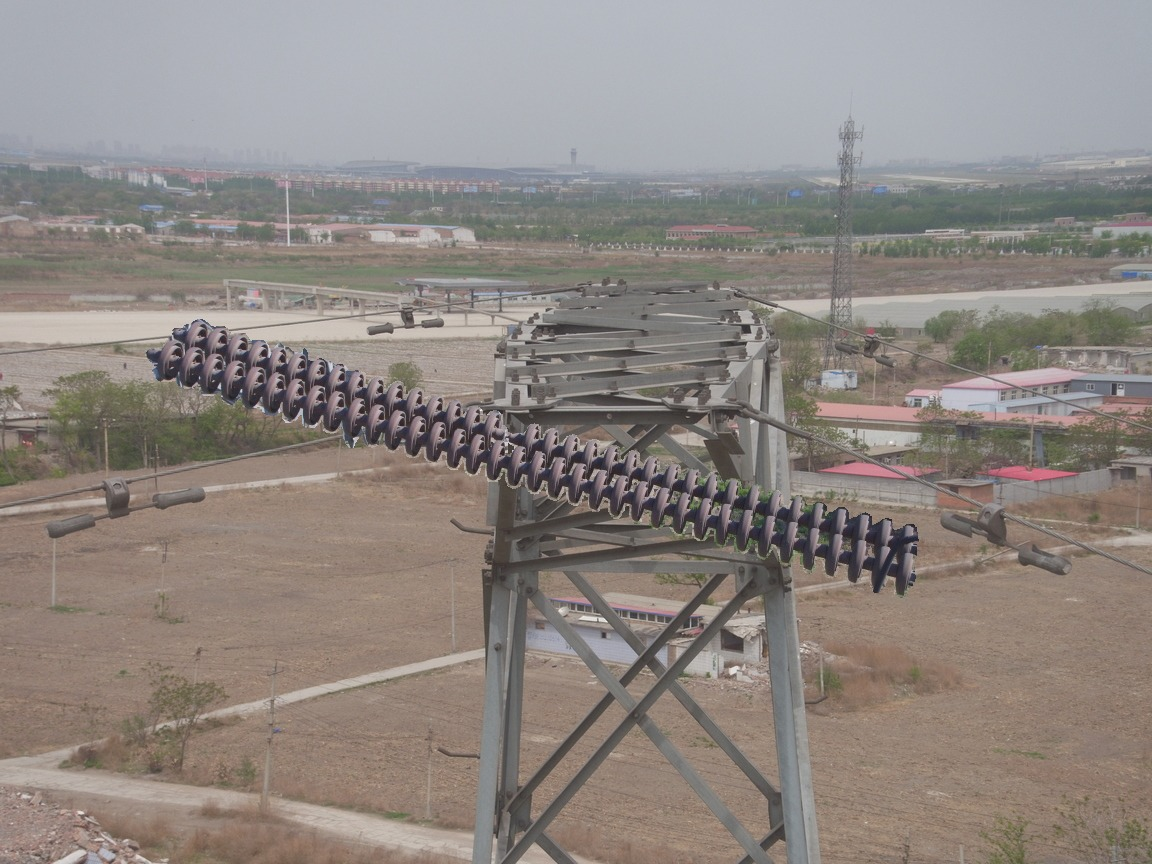defect: (478, 406, 545, 453)
